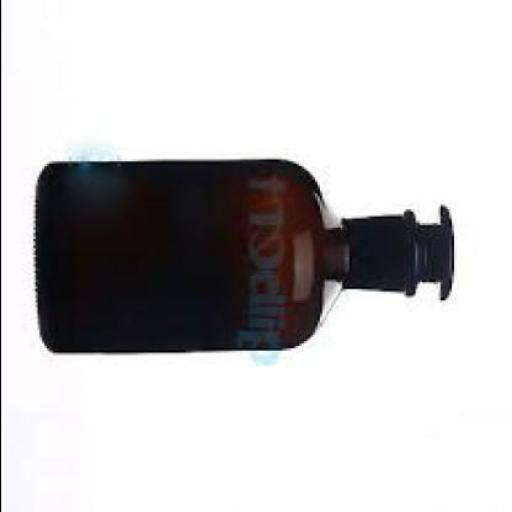glass: (36, 164, 455, 356)
